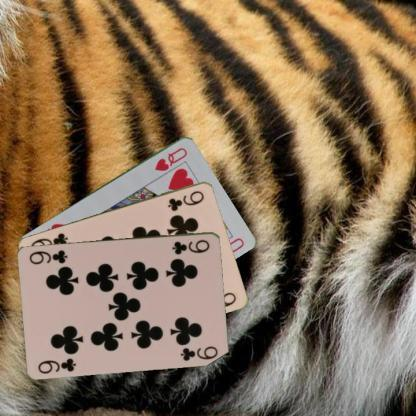9c: (165, 188, 206, 212), (35, 356, 78, 374), (170, 237, 210, 256)
Qh: (152, 144, 189, 172)
